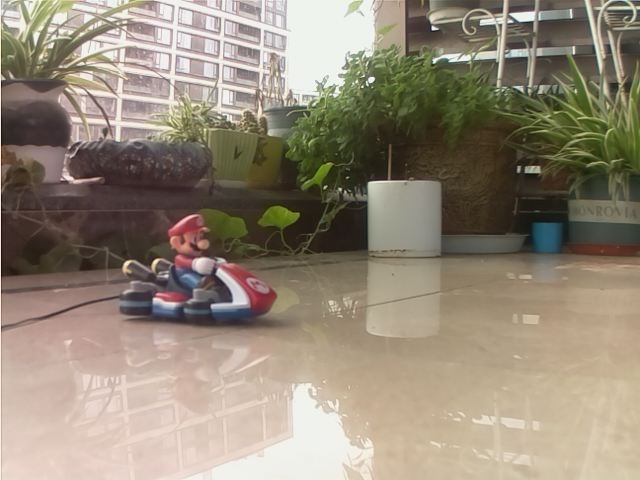mario: (108, 208, 290, 330)
